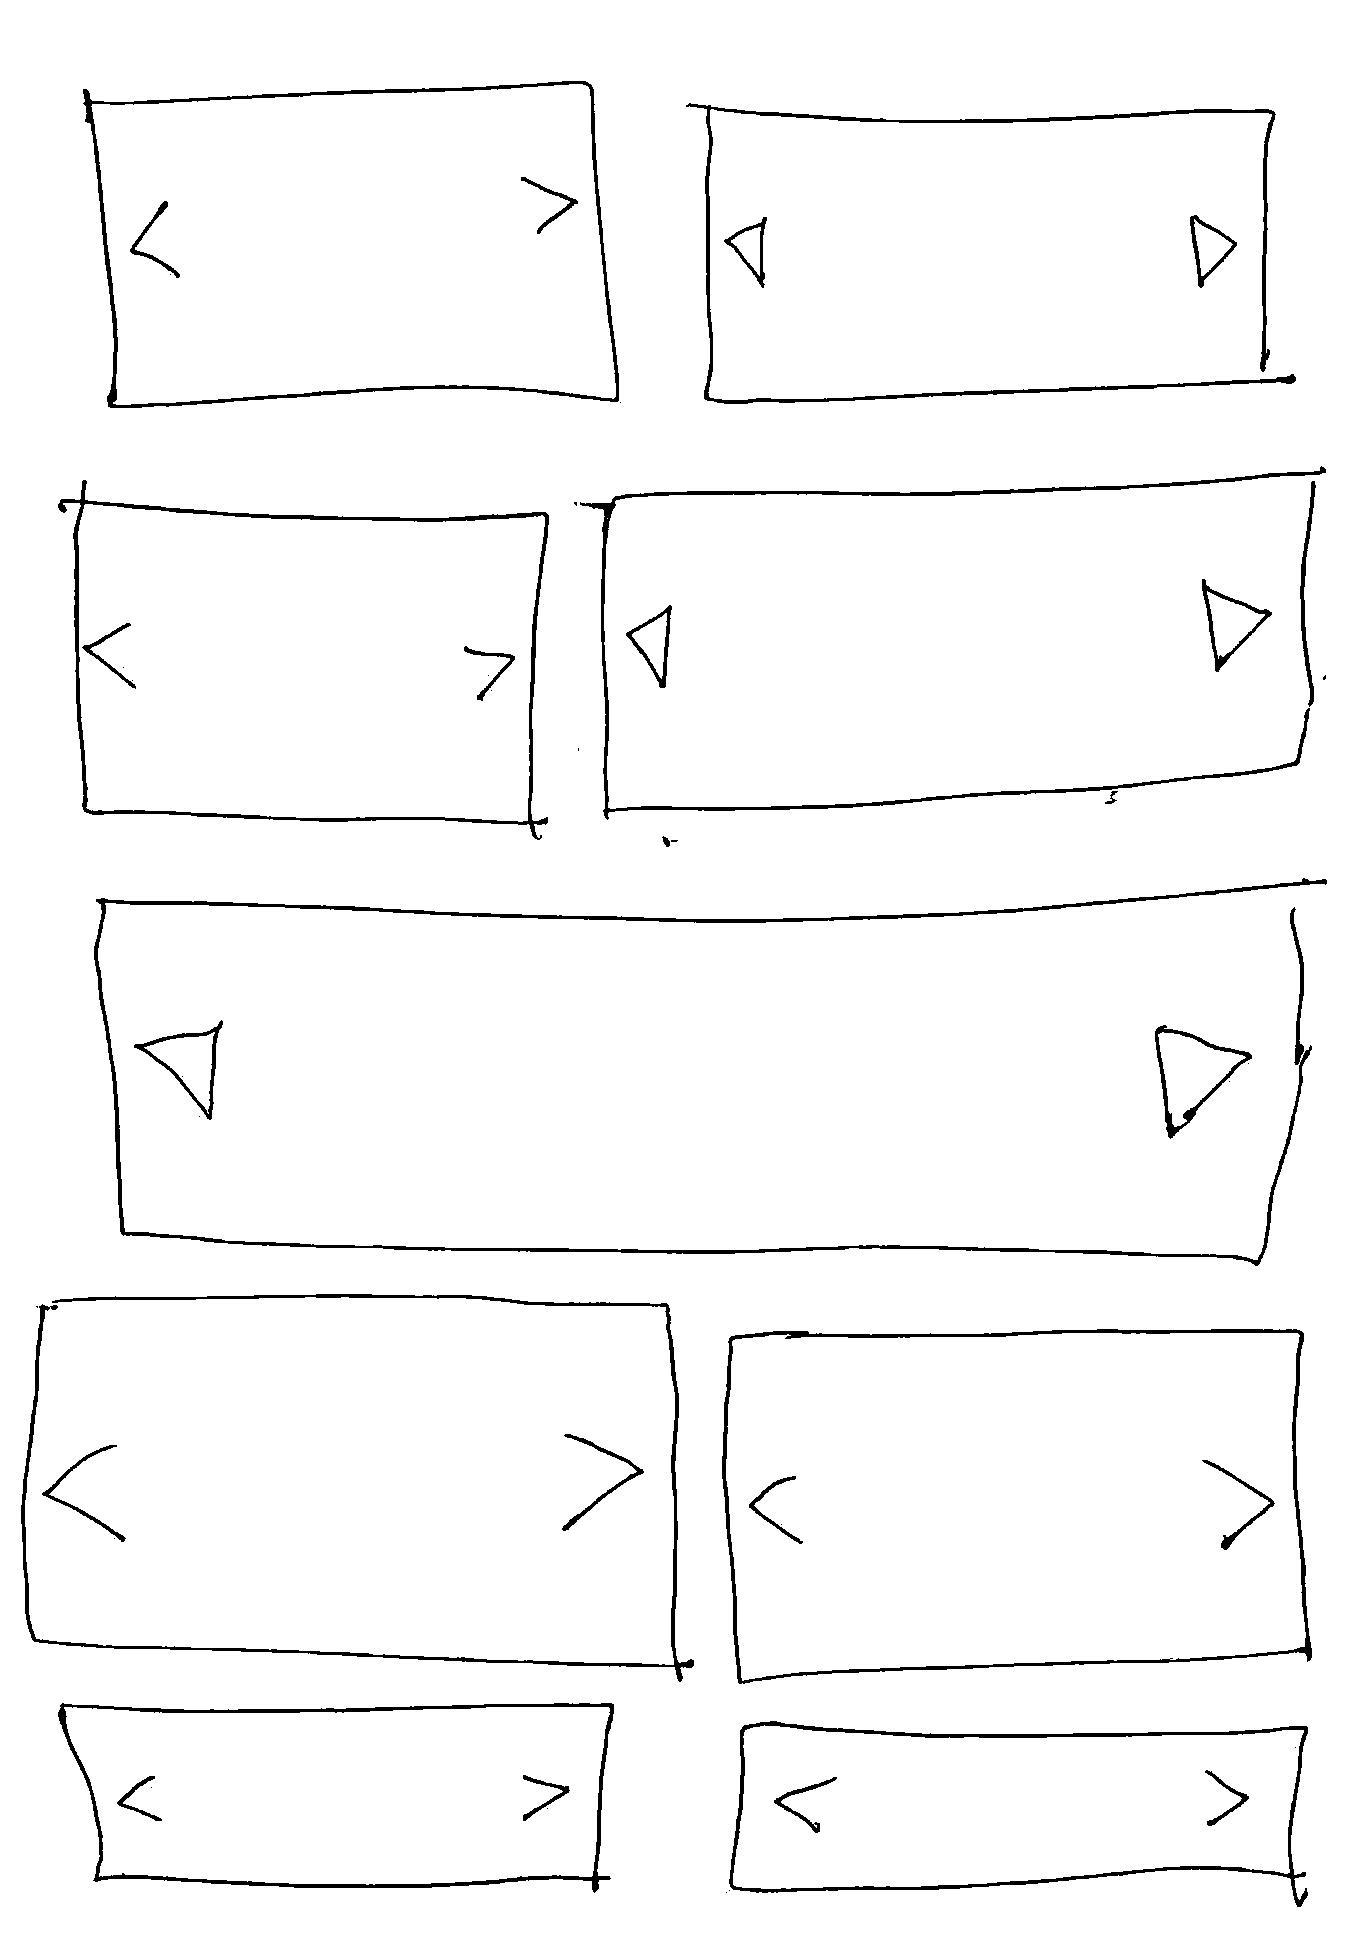Carousel: (93, 879, 1326, 1265), (22, 1291, 693, 1680), (593, 467, 1325, 819), (722, 1329, 1313, 1685), (682, 104, 1296, 405), (81, 81, 624, 407), (58, 480, 550, 839), (729, 1722, 1308, 1906), (58, 1703, 613, 1892)
